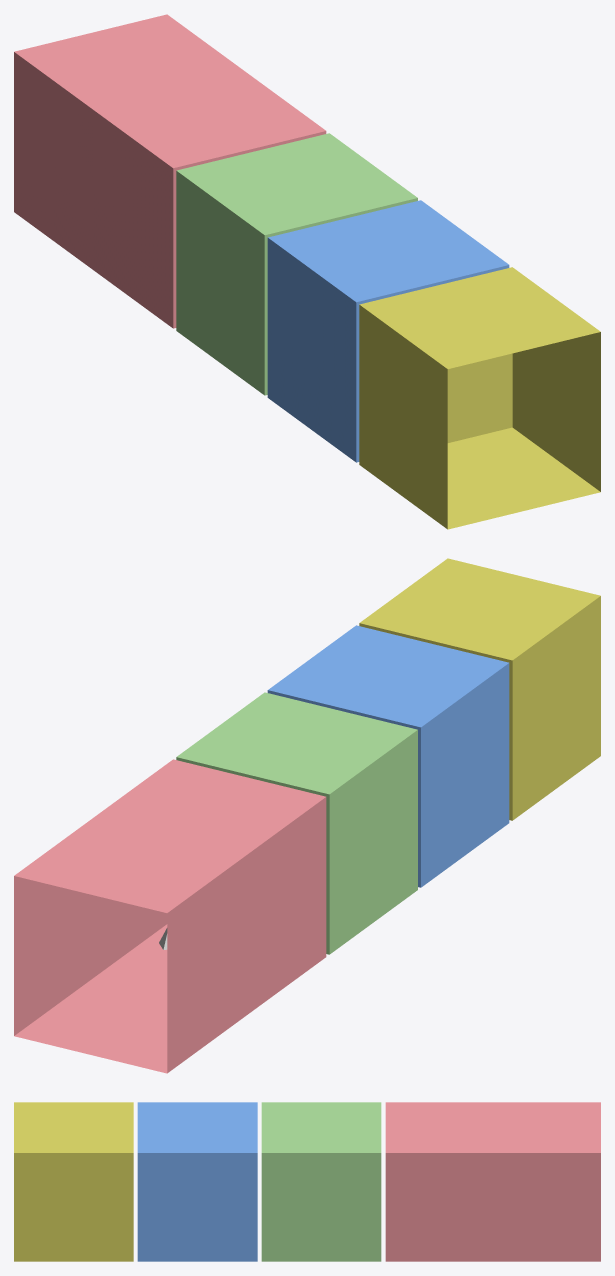
File: room.glb
The picture shows the model from 3 angles, top to bottom: view 1: azimuth 30°, elevation 25°; view 2: azimuth 150°, elevation 25°; view 3: azimuth 270°, elevation 25°; orthographic projection. The views are drawn at different scales.
Parts seen in each view (by area): view 1: Cube.006, Cube.004, Cube.005, Cube; view 2: Cube.004, Cube, Cube.005, Cube.006; view 3: Cube.004, Cube, Cube.005, Cube.006.
Boxes of the visible parts, x1=… form: Cube.006: x1=359, y1=267, x2=600, y2=529; Cube.004: x1=14, y1=14, x2=326, y2=328; Cube.005: x1=267, y1=200, x2=509, y2=462; Cube: x1=176, y1=133, x2=417, y2=395; Cube.004: x1=14, y1=759, x2=326, y2=1073; Cube: x1=176, y1=692, x2=417, y2=954; Cube.005: x1=267, y1=625, x2=509, y2=887; Cube.006: x1=359, y1=558, x2=600, y2=820; Cube.004: x1=385, y1=1102, x2=600, y2=1261; Cube: x1=261, y1=1102, x2=381, y2=1261; Cube.005: x1=137, y1=1102, x2=257, y2=1261; Cube.006: x1=14, y1=1102, x2=133, y2=1261.
Size of the model in its own units: 5.8 by 5.81 by 28.44.
